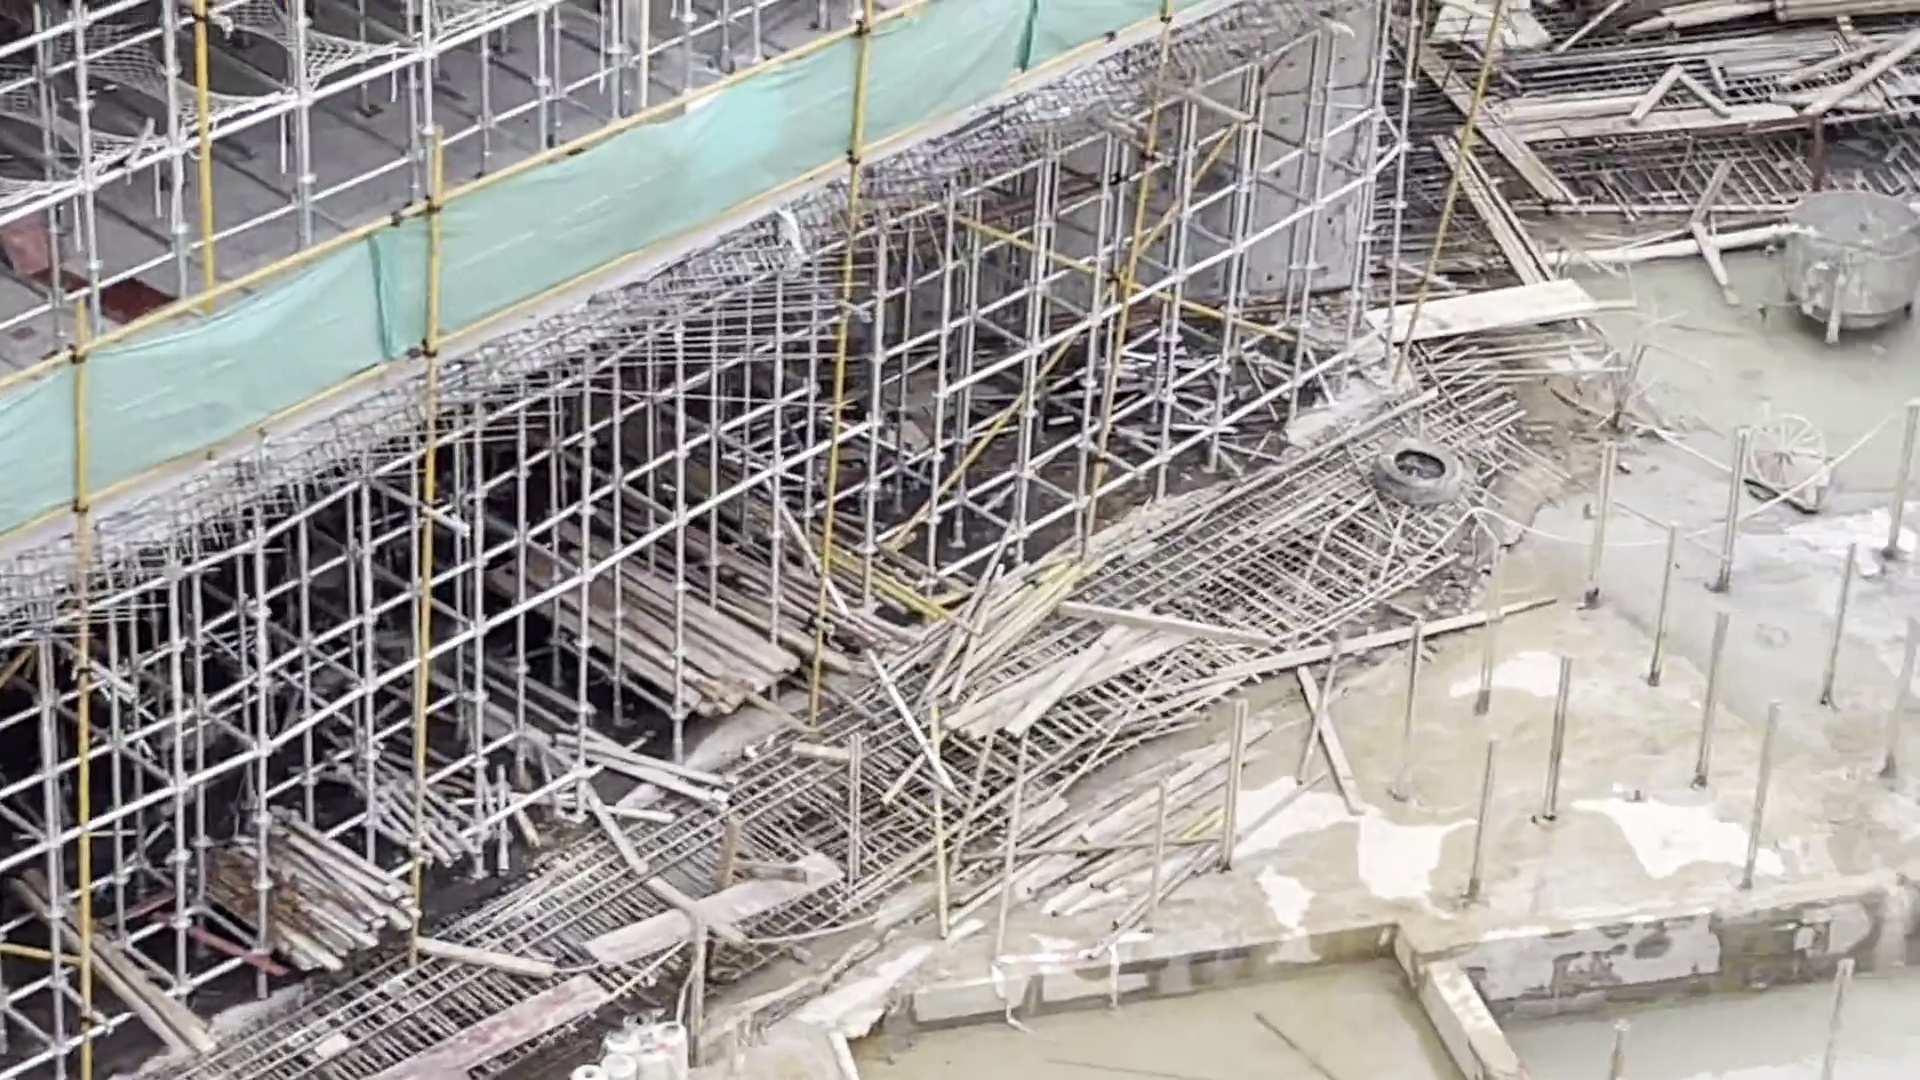wood: (504, 550, 791, 732), (164, 786, 433, 980)
